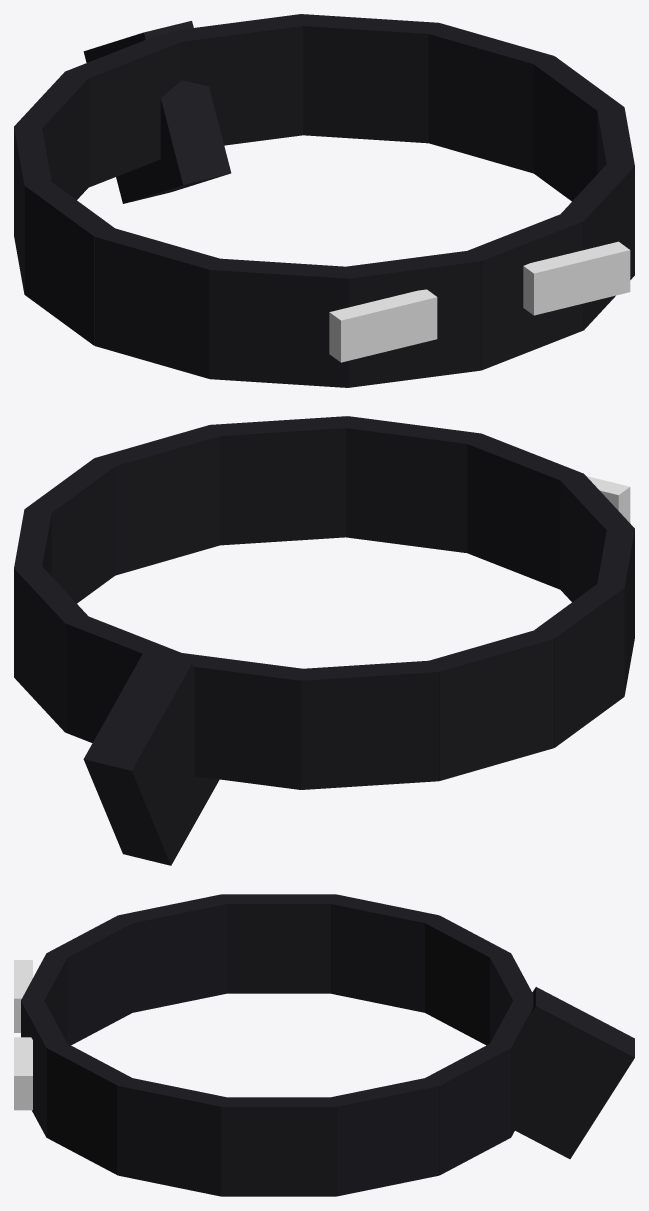
Rendered from hat_mask.fbx.
3 renders of one model, top to bottom at view 1: azimuth 30°, elevation 25°; view 2: azimuth 150°, elevation 25°; view 3: azimuth 270°, elevation 25°, orthographic. The views are drawn at different scales.
Parts seen in each view (by area): view 1: hat_mask; view 2: hat_mask; view 3: hat_mask.
Part boxes in pixels (box(x1,y1,x2,y2)): hat_mask: box(14, 14, 634, 387); hat_mask: box(14, 416, 634, 865); hat_mask: box(14, 894, 634, 1196).
Size of the model in its own units: 132 by 44.44 by 163.
Materials: 1 (1 with a texture image).
